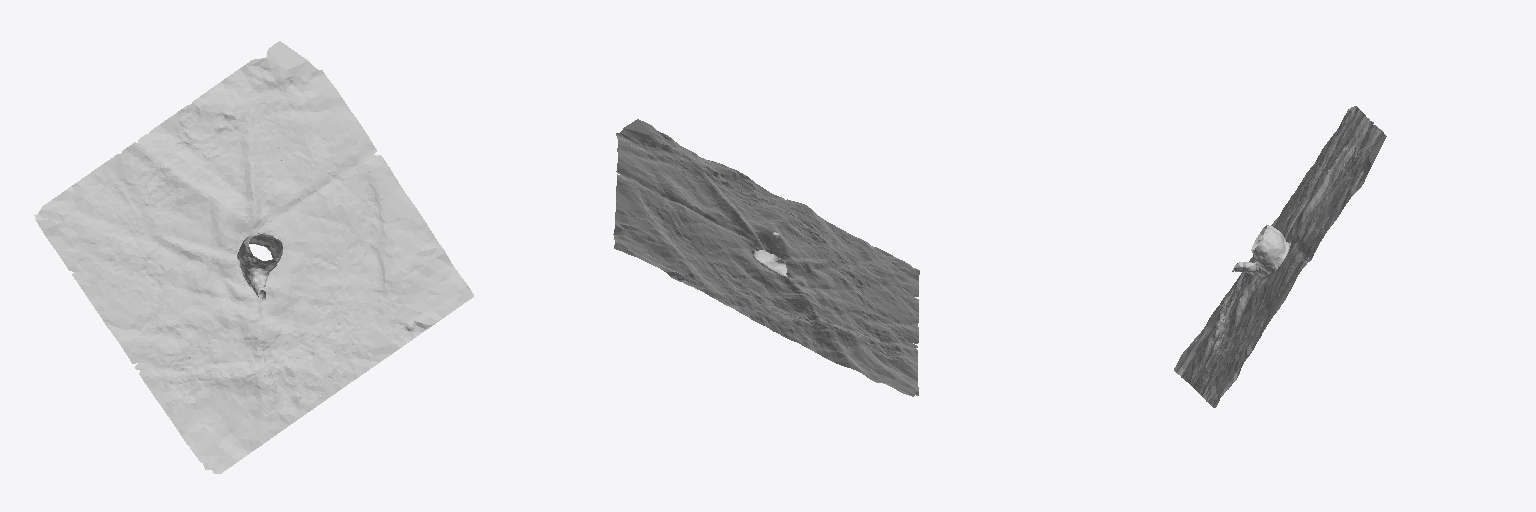
File: whistle2.obj
3 renders of one model, left to right at view 1: azimuth 30°, elevation 25°; view 2: azimuth 150°, elevation 25°; view 3: azimuth 270°, elevation 25°, orthographic.
Bounding box in the file's own units: 4.71 × 3.8 × 2.34.